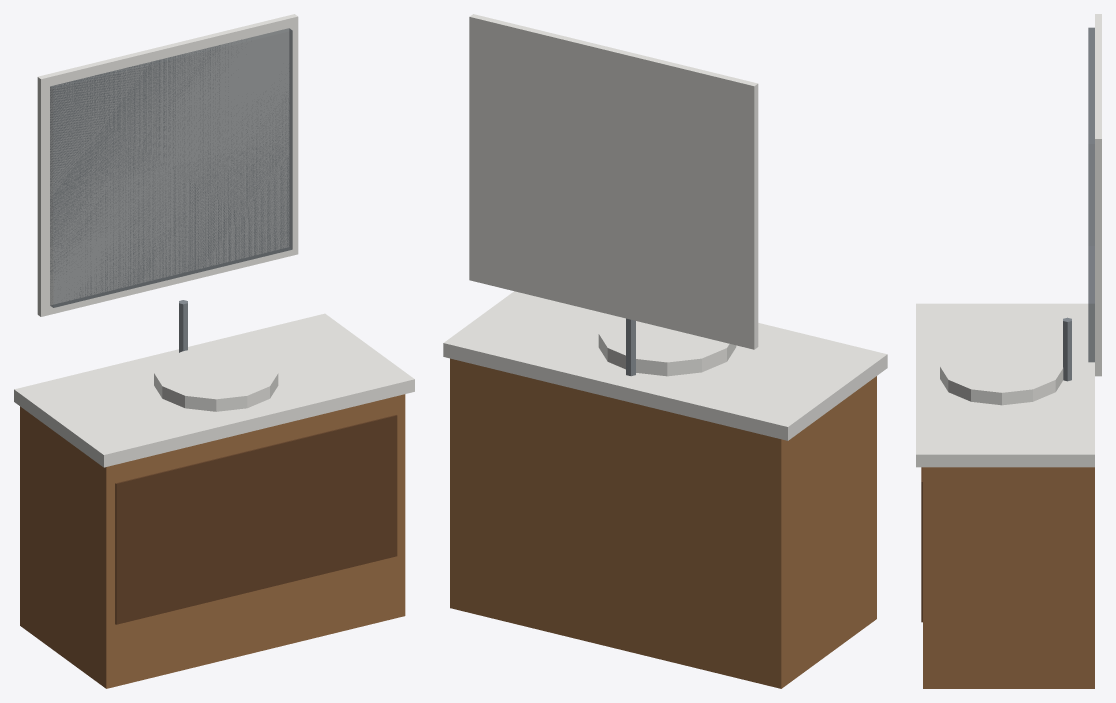
Rendered from Vanity.obj.
The picture shows the model from 3 angles, left to right: view 1: azimuth 30°, elevation 25°; view 2: azimuth 150°, elevation 25°; view 3: azimuth 270°, elevation 25°; orthographic projection. The views are drawn at different scales.
Visible parts, largest first — view 1: Vanity; view 2: Vanity; view 3: Vanity.
Boxes of the visible parts, box(x1,y1,x2,y2) form: Vanity: box(14, 14, 414, 688); Vanity: box(443, 14, 887, 688); Vanity: box(916, 14, 1101, 688).
Bounding box in the file's own units: 1.04 × 1.73 × 0.54.
